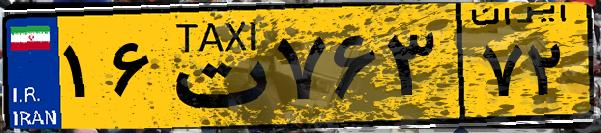1: (57, 26, 110, 100)
2: (525, 38, 570, 115)
3: (385, 28, 445, 110)
6: (330, 28, 385, 110), (110, 28, 158, 98)
7: (270, 28, 330, 110), (475, 38, 525, 113)
ت: (158, 12, 270, 120)
